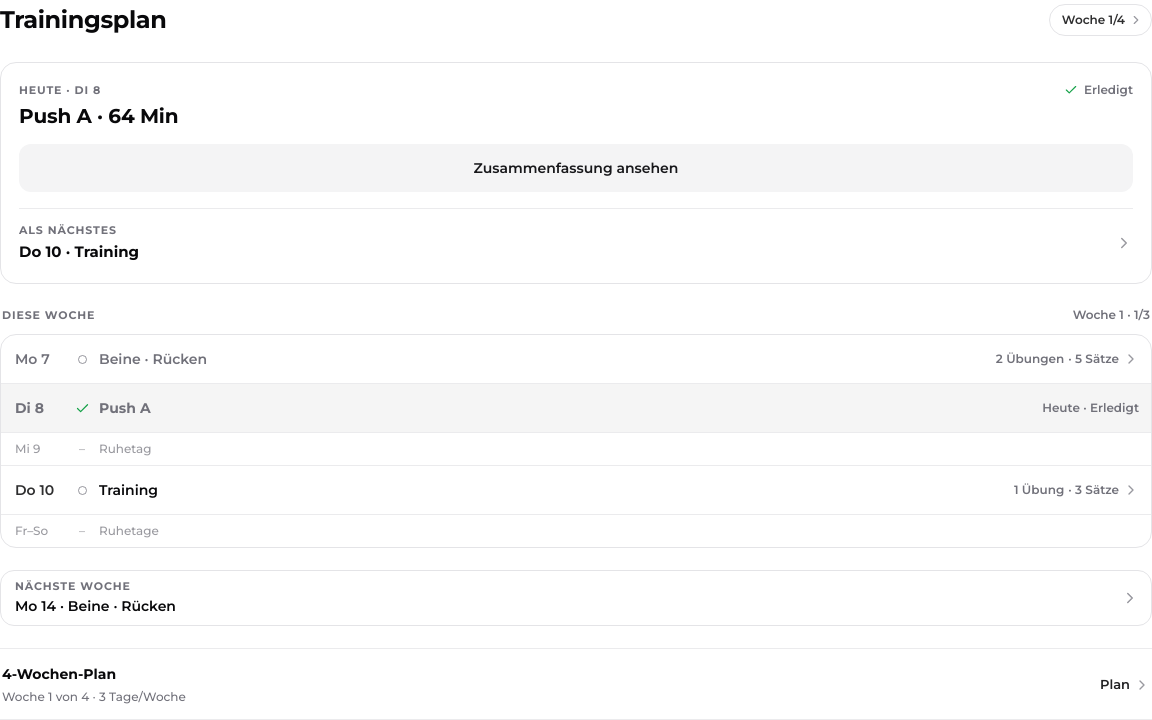
Trainingsplan main › shows today's completion with its stored duration, and starts nothing
The image size is (1152, 720).
Expected: the text "Erledigt" is shown, [1064,81,1133,99]
Expected: the heading "Push A · 64 Min" is shown, [19,104,178,128]
Click the button "Als Nächstes Do 10 · Training".
click(68, 230)  # box [19,221,1133,265]
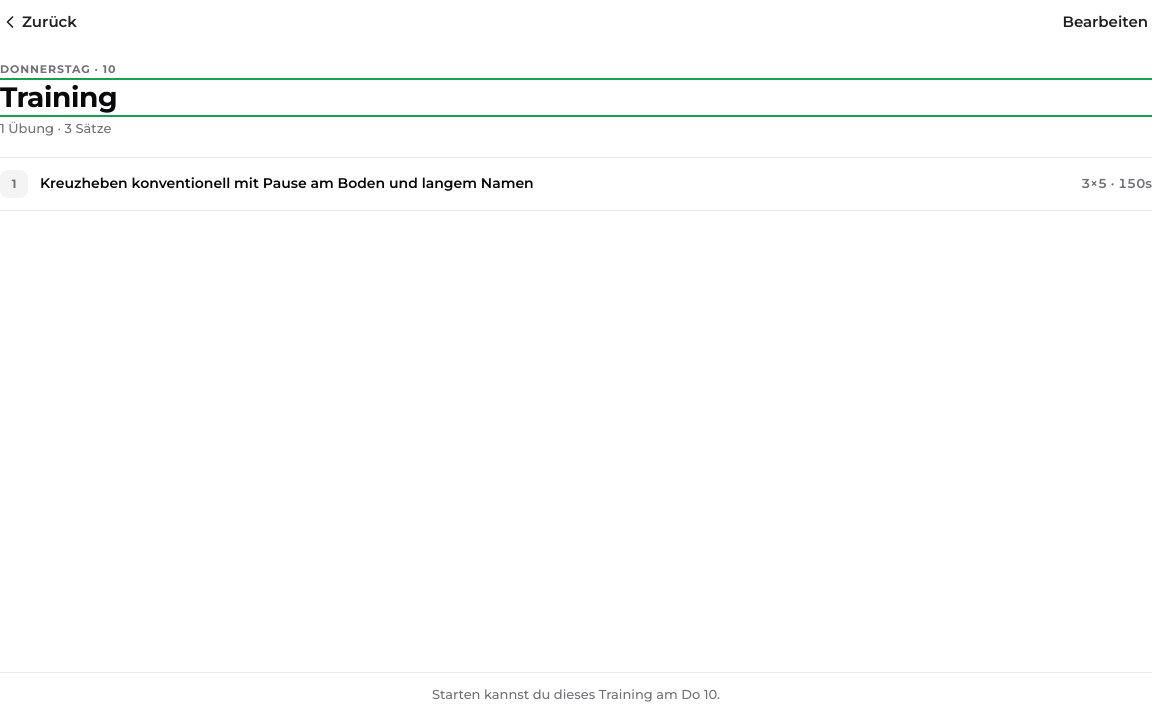
Expected: the heading "Training" is shown, [0,80,117,114]
Expected: the text "Donnerstag · 10" is shown, [0,62,116,76]
